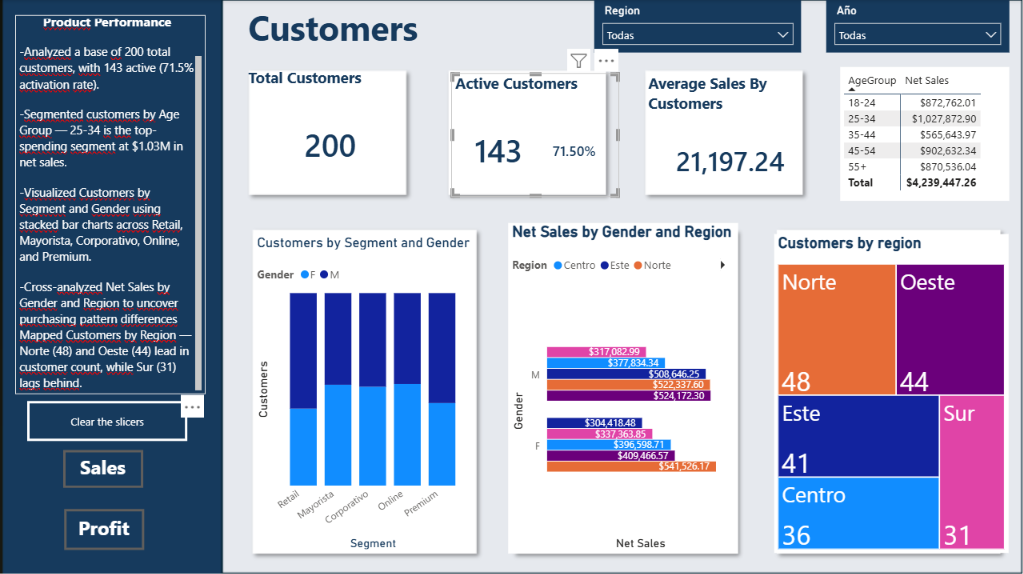

What the dashboard file says about the page in this screenshot:
{"tool":"powerbi","page":{"name":"Customers","canvas":[1280,720],"ordinal":2},"visuals":[{"type":"cardVisual","title":"Active Customers","fields":{"Data":["Mesures.Active Customers","Mesures.Active Customers PTC"]},"box":[564.3,91.4,210,154.3],"z":0},{"type":"cardVisual","title":"Total Customers","fields":{"Data":["Mesures.Unique Customers"]},"box":[305.7,84.3,215.7,154.3],"z":1000},{"type":"hundredPercentStackedColumnChart","title":"Customers by Segment and Gender","fields":{"Category":["Costumers.Segment"],"Series":["Costumers.Gender"],"Y":["Mesures.Unique Customers"]},"box":[317.5,292.5,276.2,398.8],"z":2000},{"type":"pivotTable","fields":{"Rows":["Costumers.AgeGroup"],"Values":["Mesures.Net Sales"]},"box":[1050,84.3,211.4,167.1],"z":3000},{"type":"treemap","title":"Customers by region","fields":{"Group":["Costumers.Region"],"Values":["Mesures.Unique Customers"]},"box":[968.6,292.9,292.9,398.6],"z":4000},{"type":"clusteredBarChart","title":"Net Sales by Gender and Region","fields":{"Category":["Costumers.Gender"],"Series":["Costumers.Region"],"Y":["Mesures.Net Sales"]},"box":[636.2,278.8,287.5,412.5],"z":5000},{"type":"textbox","box":[305.7,0,280,84.3],"z":6000},{"type":"actionButton","box":[34.7,500.2,200,50],"z":7000},{"type":"textbox","box":[53.8,561.5,151.4,55.7],"z":7000,"group":"g1"},{"type":"group","id":"g1","title":"Grupo 1","box":[53.8,561.5,151.4,55.7],"z":8000},{"type":"actionButton","box":[80,561.7,100,47.5],"z":8000,"group":"g1"},{"type":"group","id":"g2","title":"Grupo 1","box":[54.7,635.2,151.2,83.8],"z":9000},{"type":"slicer","fields":{"Values":["Dates.Date.Variación.Jerarquía de fechas.Año"]},"box":[1032.9,0,228.6,65.7],"z":10000},{"type":"slicer","fields":{"Values":["Stores.Region"]},"box":[742.9,0,258.6,65.7],"z":11000},{"type":"textbox","box":[54.7,637.8,151.2,81.1],"z":11000,"group":"g2"},{"type":"textbox","box":[20,18.8,237.5,473.8],"z":12000},{"type":"cardVisual","title":"Average Sales By Customers","fields":{"Data":["Mesures.Average Sales By Customer"]},"box":[805.6,91.2,215.7,154.3],"z":13000},{"type":"actionButton","box":[80.9,635.2,100,51.2],"z":14000,"group":"g2"}]}

Visuals, with their boxes in screenshot pixels (x1, y1, x2, y2), scaled from the page's 1280x720 canvas onto the 1023x574 screenshot:
"Active Customers" cardVisual: (451, 73, 619, 196)
"Total Customers" cardVisual: (244, 67, 417, 190)
"Customers by Segment and Gender" hundredPercentStackedColumnChart: (254, 233, 474, 551)
pivotTable - Costumers.AgeGroup x Mesures.Net Sales: (839, 67, 1008, 200)
"Customers by region" treemap: (774, 234, 1008, 551)
"Net Sales by Gender and Region" clusteredBarChart: (508, 222, 738, 551)
textbox: (244, 0, 468, 67)
actionButton: (28, 399, 188, 439)
textbox: (43, 448, 164, 492)
"Grupo 1" group: (43, 448, 164, 492)
actionButton: (64, 448, 144, 486)
"Grupo 1" group: (44, 506, 165, 573)
slicer - Dates.Date.Variación.Jerarquía de fechas.Año: (826, 0, 1008, 52)
slicer - Stores.Region: (594, 0, 800, 52)
textbox: (44, 508, 165, 573)
textbox: (16, 15, 206, 393)
"Average Sales By Customers" cardVisual: (644, 73, 816, 196)
actionButton: (65, 506, 145, 547)
